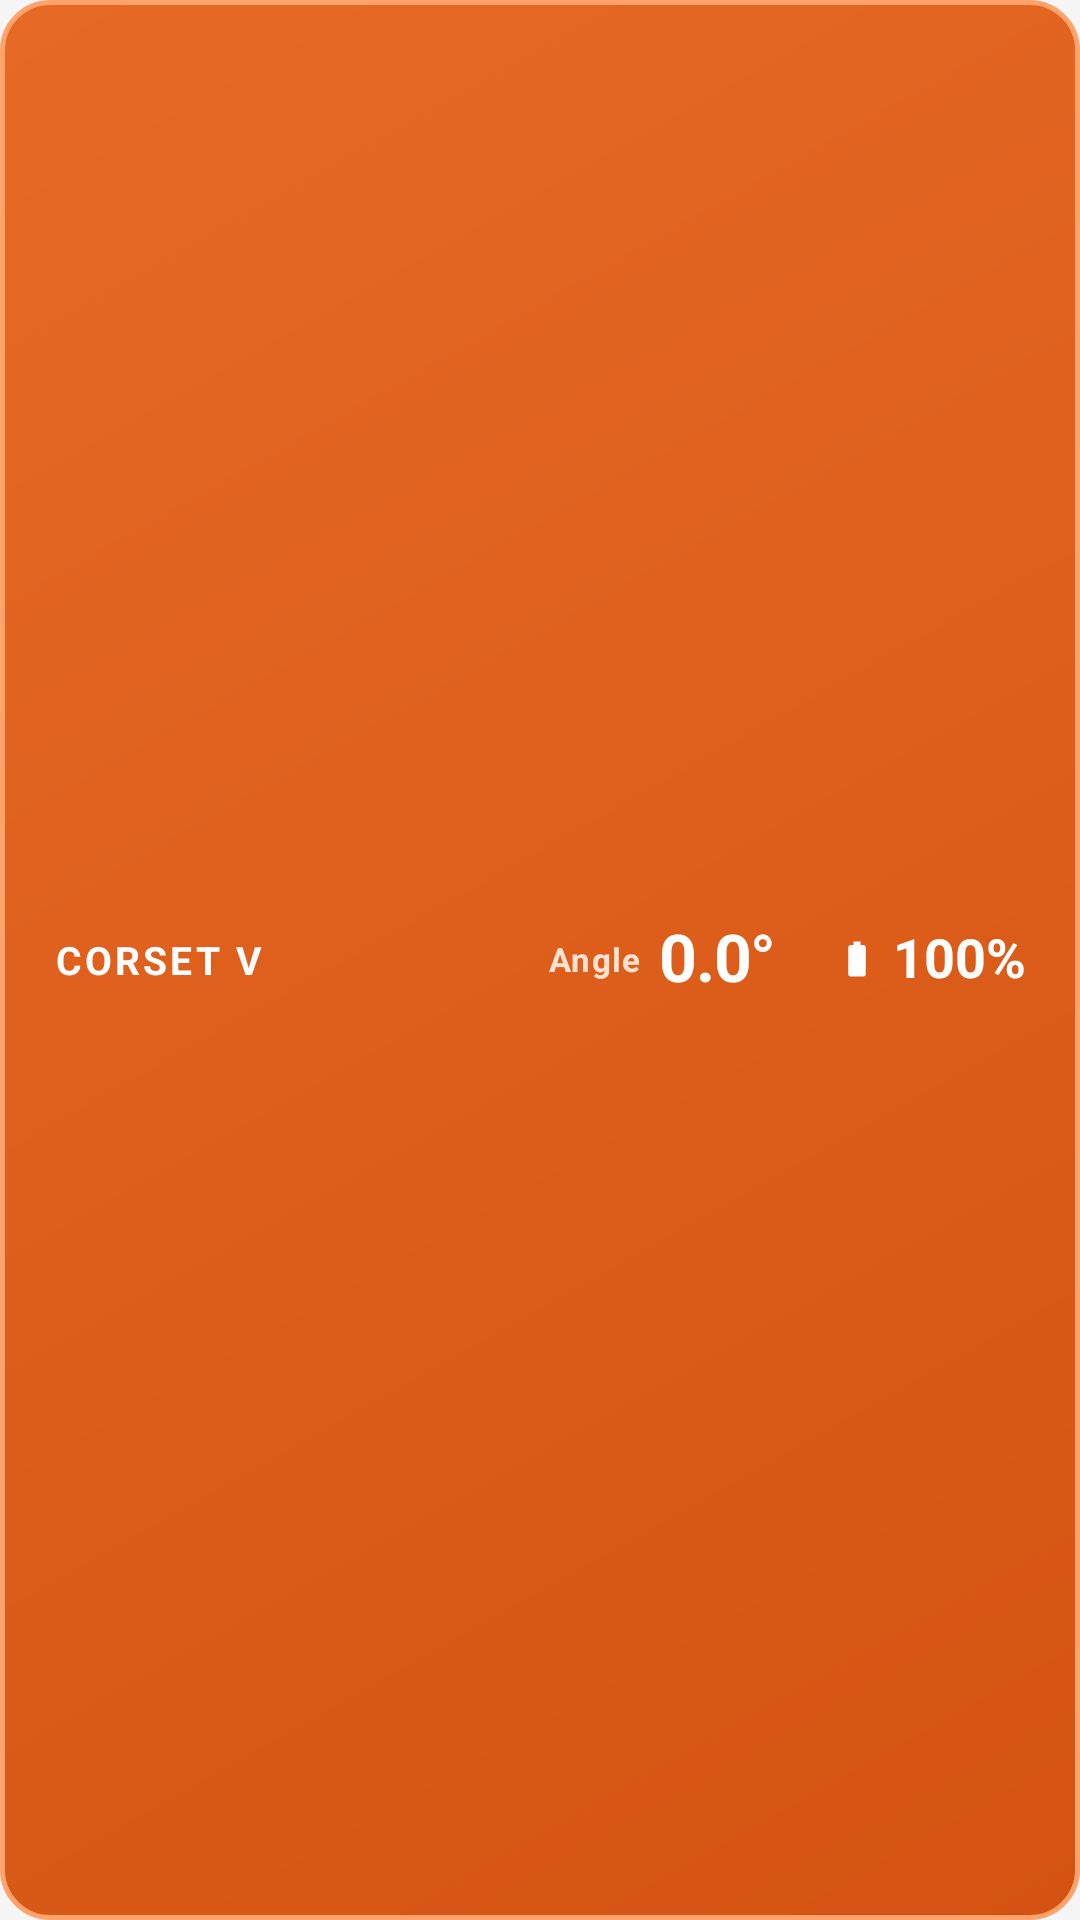

Icons on this 1080 x 1920 Android screen, each with its box as (x1, y1, x2, y2):
widget battery: (848, 941, 866, 977)
